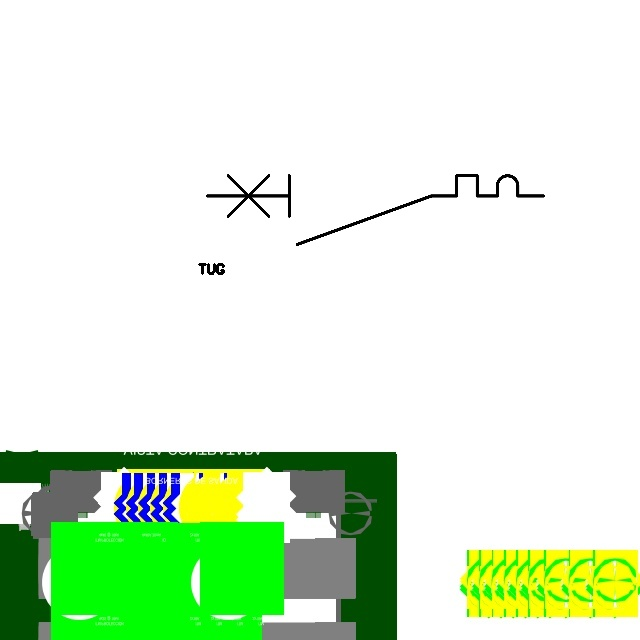interruptor_termomagnetico: (199, 167, 552, 253)
